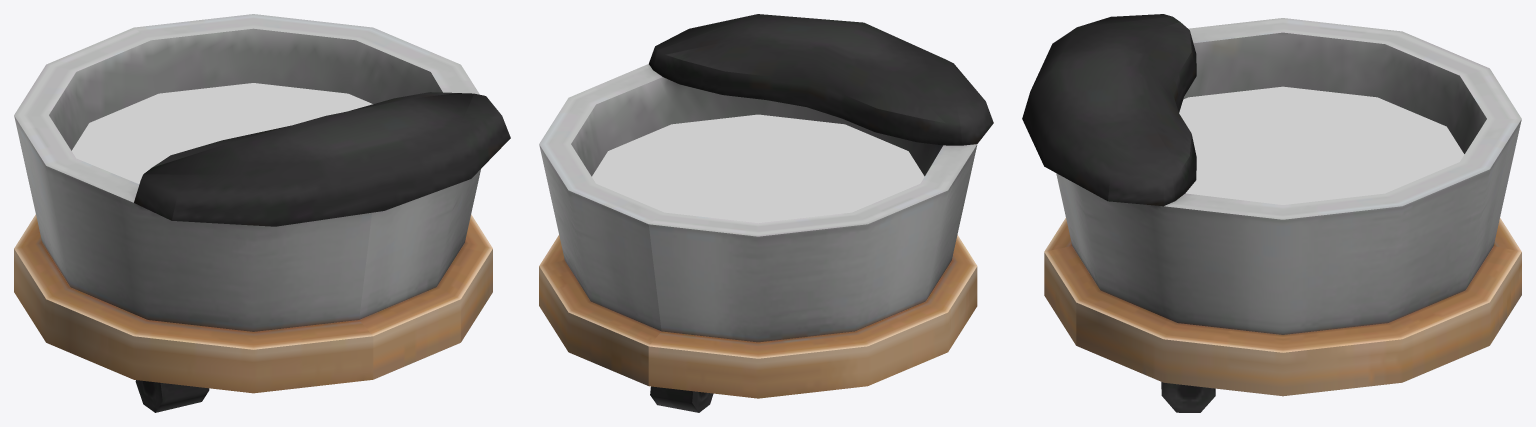
Rendered from bañeraPedicura.fbx.
The picture shows the model from 3 angles, left to right: view 1: azimuth 30°, elevation 25°; view 2: azimuth 150°, elevation 25°; view 3: azimuth 270°, elevation 25°; orthographic projection. The views are drawn at different scales.
Parts seen in each view (by area): view 1: s4studio_mesh_4; view 2: s4studio_mesh_4; view 3: s4studio_mesh_4.
Boxes of the visible parts, x1,y1,x2,y2 form: s4studio_mesh_4: (14,14,510,412); s4studio_mesh_4: (539,14,993,412); s4studio_mesh_4: (1022,14,1521,412).
Bounding box in the file's own units: 57.09 × 36.33 × 59.72.
Materials: 4 (3 with a texture image).
